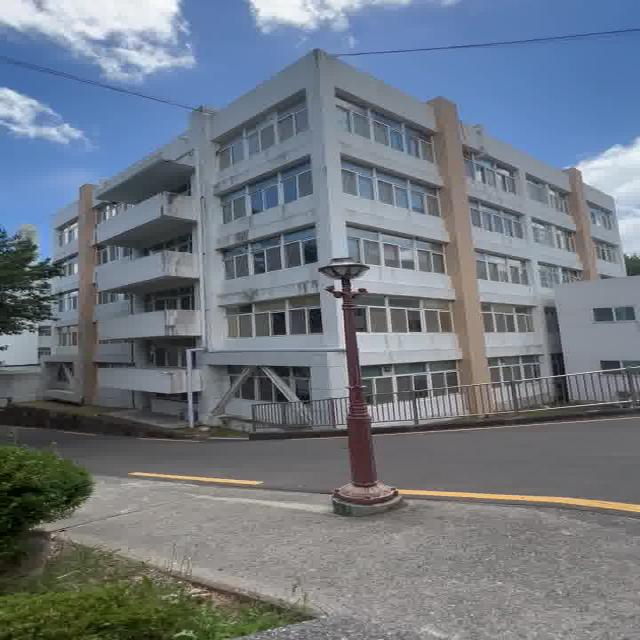building: (109, 62, 606, 411)
